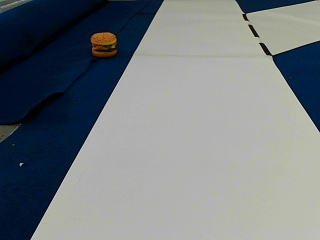burger: (90, 31, 117, 57)
